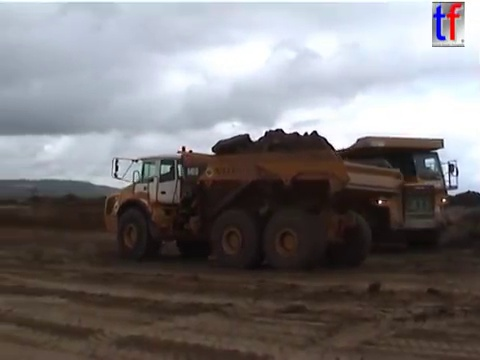truck: (101, 144, 407, 273), (225, 134, 461, 255)
